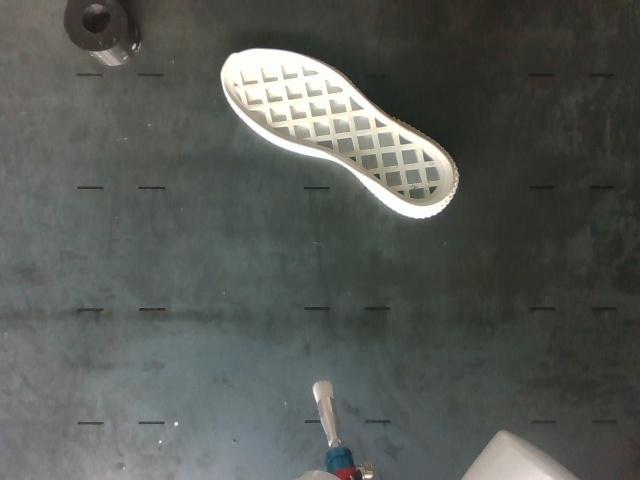shoes: (222, 51, 454, 208)
